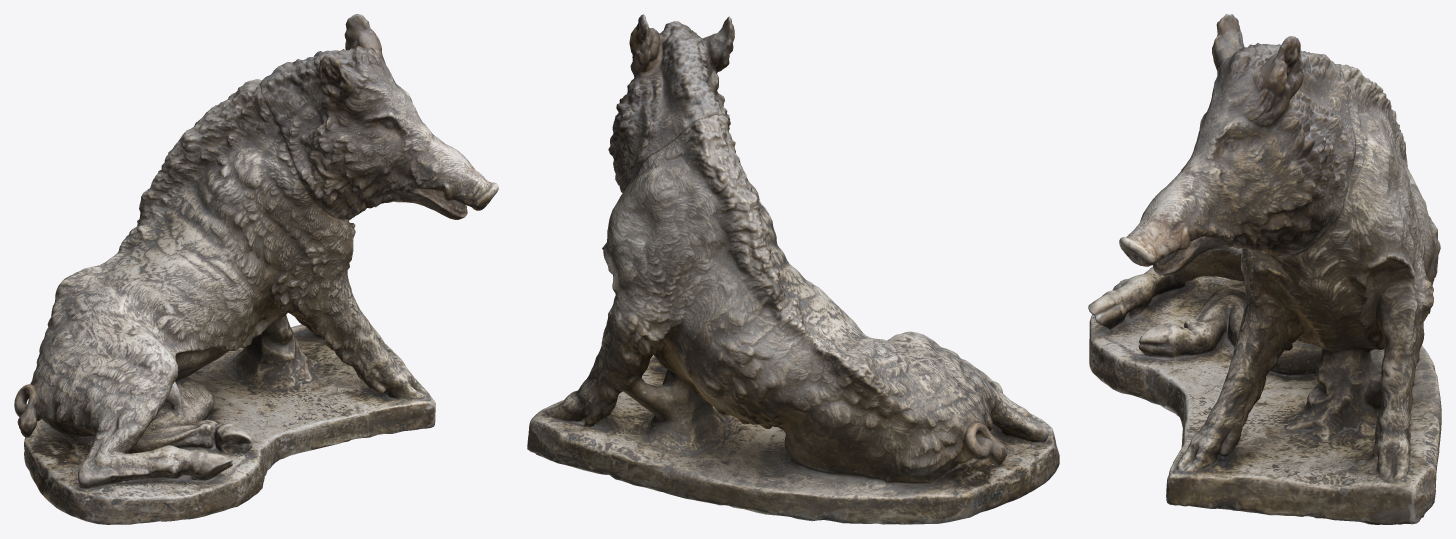
The model's file is boar.glb.
3 views of the same model, side by side, from view 1: azimuth 30°, elevation 25°; view 2: azimuth 150°, elevation 25°; view 3: azimuth 270°, elevation 25° (orthographic). The views are drawn at different scales.
Visible parts, largest first — view 1: Rz_119_Dzik_odlew_gipsowy_73K_edit05w_0; view 2: Rz_119_Dzik_odlew_gipsowy_73K_edit05w_0; view 3: Rz_119_Dzik_odlew_gipsowy_73K_edit05w_0.
Part boxes in pixels (x1,y1,x2,y2): Rz_119_Dzik_odlew_gipsowy_73K_edit05w_0: (14, 14, 498, 524); Rz_119_Dzik_odlew_gipsowy_73K_edit05w_0: (527, 14, 1059, 524); Rz_119_Dzik_odlew_gipsowy_73K_edit05w_0: (1088, 14, 1441, 524).
Bounding box in the file's own units: 1532 × 1354 × 948.
1 material, 1 textured.
